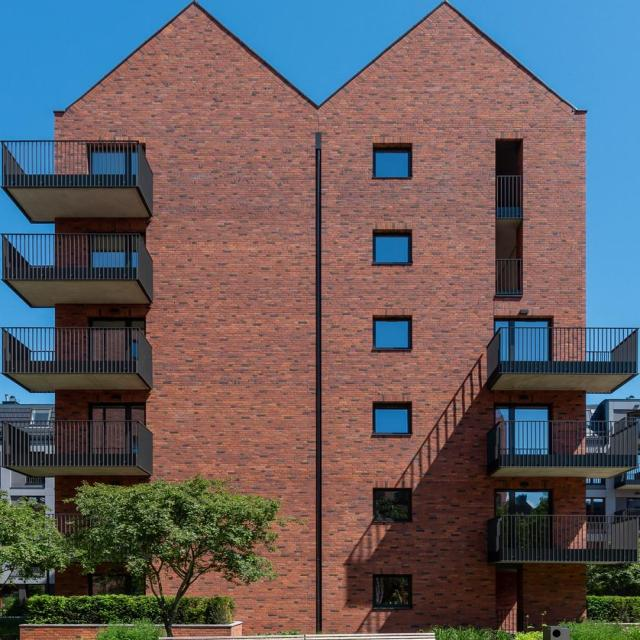Railing: (0, 234, 153, 295), (485, 329, 637, 387), (482, 425, 635, 480), (0, 327, 150, 382), (0, 421, 152, 465), (488, 518, 637, 554), (493, 176, 522, 218), (494, 262, 518, 296)
plant: (46, 481, 304, 634), (0, 586, 237, 626), (0, 487, 54, 576)
wall: (0, 0, 637, 636)
windows: (495, 491, 548, 518), (372, 575, 411, 607), (90, 317, 146, 338), (373, 236, 410, 264), (374, 150, 409, 179), (372, 406, 408, 434), (372, 494, 408, 522), (375, 320, 407, 351), (88, 406, 147, 422), (493, 411, 546, 423), (496, 322, 548, 331)
